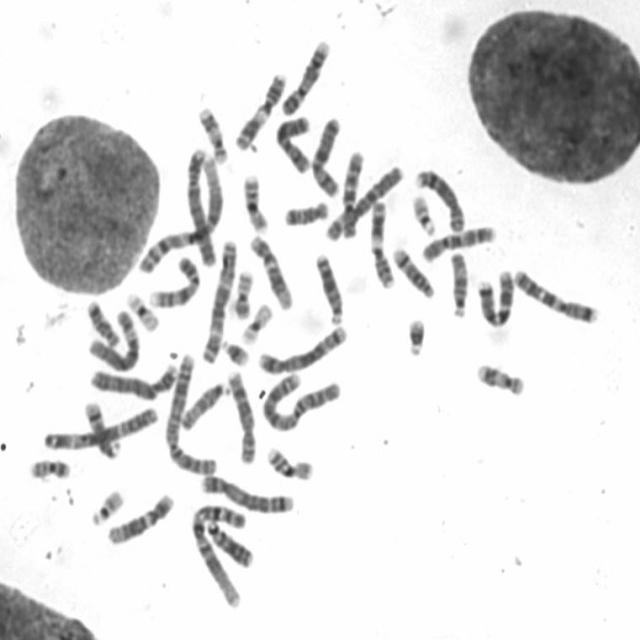A1: (134, 148, 225, 276), (187, 499, 246, 610)
A2: (163, 352, 218, 476), (260, 371, 343, 434)
A3: (39, 402, 160, 452), (198, 236, 238, 366)
B4: (183, 146, 221, 268), (87, 360, 181, 400)
B5: (255, 322, 349, 376), (198, 471, 294, 515)
C10: (418, 222, 497, 264), (338, 147, 365, 240)
C11: (231, 69, 288, 151), (368, 198, 396, 290)
C12: (104, 490, 176, 546), (247, 232, 294, 312)
C6: (321, 162, 406, 242), (84, 306, 142, 374)
C7: (510, 266, 600, 326), (474, 266, 516, 328)
C8: (411, 166, 465, 234), (225, 368, 258, 467)
C9: (278, 36, 332, 117), (146, 252, 201, 310)
D13: (204, 516, 254, 570), (312, 248, 345, 326)
D14: (389, 244, 436, 300), (81, 398, 121, 460)
D15: (178, 378, 232, 432), (448, 248, 469, 320)
E16: (264, 442, 315, 482), (240, 170, 270, 236)
E17: (195, 102, 229, 167), (473, 358, 527, 398)
E18: (83, 298, 121, 348), (279, 198, 330, 228)
F19: (122, 290, 160, 334), (239, 300, 274, 346)
F20: (230, 266, 254, 320), (28, 454, 72, 482)
G21: (404, 314, 428, 358), (218, 337, 250, 368)
G22: (88, 486, 126, 526), (410, 192, 438, 238)
X: (308, 113, 343, 199), (272, 113, 314, 175)
